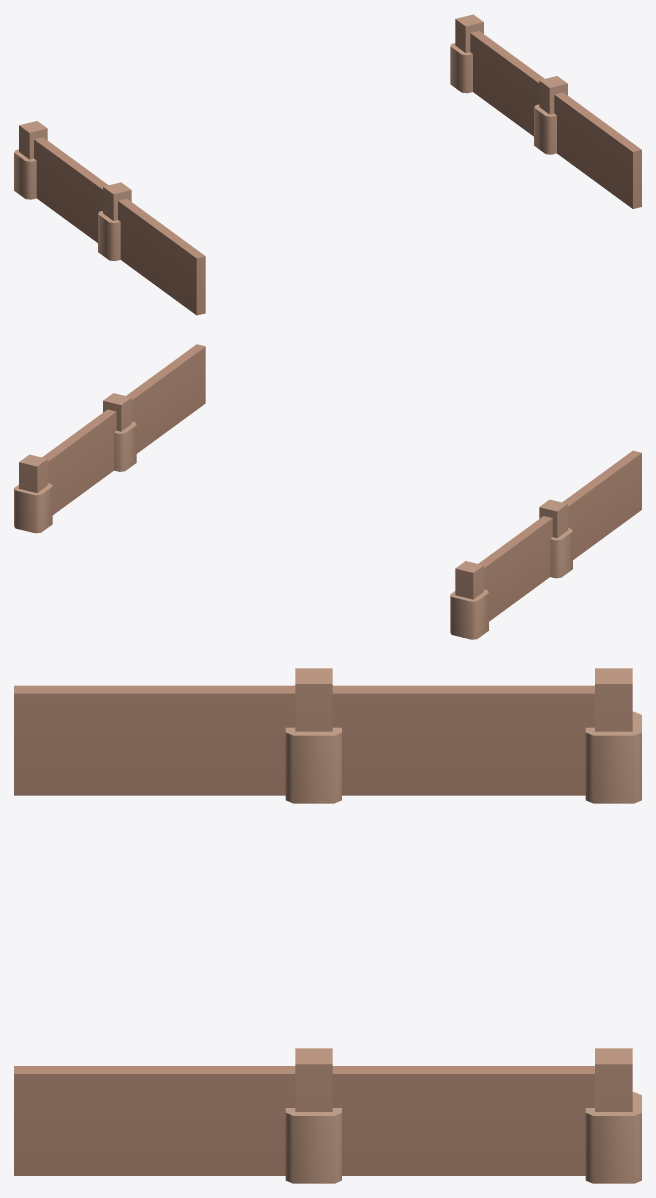
Rendered from fence-low.glb.
3 renders of one model, top to bottom at view 1: azimuth 30°, elevation 25°; view 2: azimuth 150°, elevation 25°; view 3: azimuth 270°, elevation 25°, orthographic. The views are drawn at different scales.
Visible parts, largest first — view 1: fence-low; view 2: fence-low; view 3: fence-low.
Part boxes in pixels (x1=…): fence-low: x1=14, y1=14, x2=641, y2=315; fence-low: x1=14, y1=344, x2=641, y2=639; fence-low: x1=14, y1=668, x2=641, y2=1183.
Size of the model in its own units: 1.28 by 0.17 by 0.8375.
